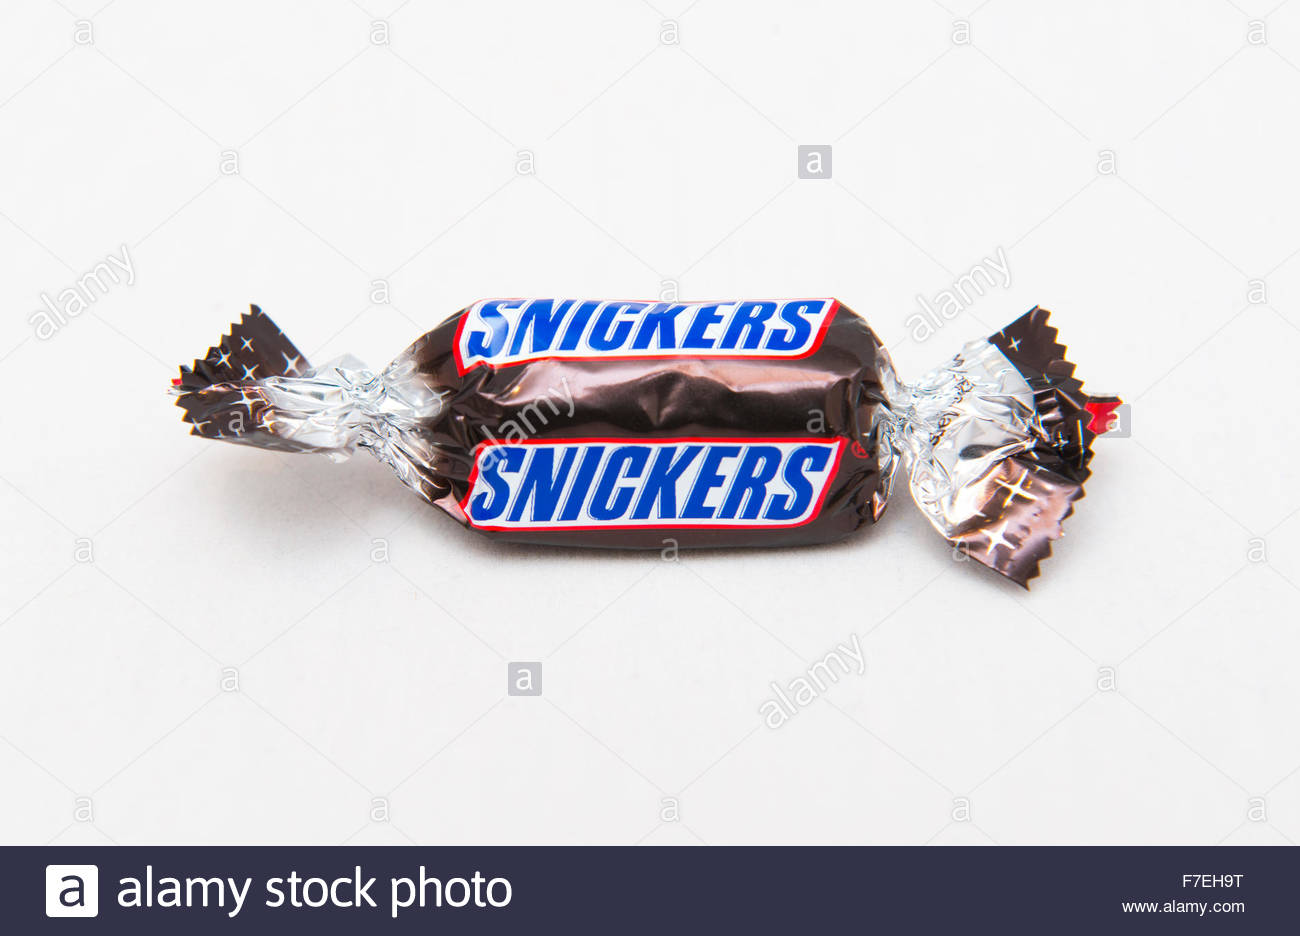snickers: (467, 442, 832, 517), (467, 447, 832, 517), (461, 300, 826, 354)
